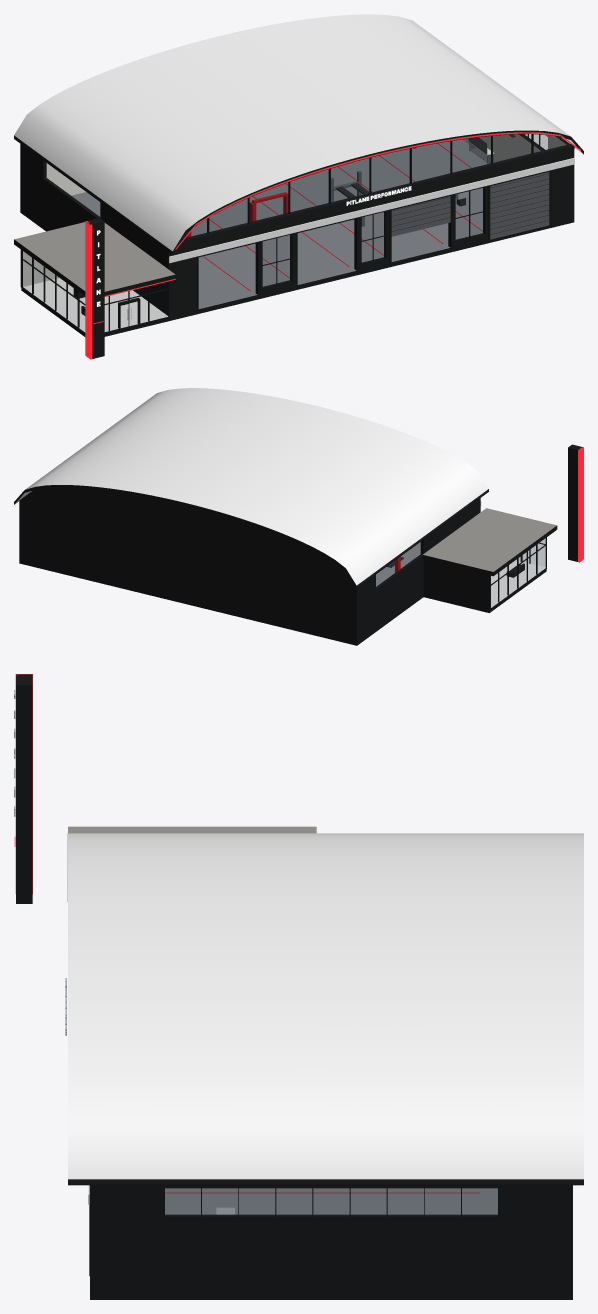
File: pitlane_performance_lod0.glb
3 views of the same model, one above another, from view 1: azimuth 30°, elevation 25°; view 2: azimuth 150°, elevation 25°; view 3: azimuth 270°, elevation 25° (orthographic). The views are drawn at different scales.
Visible parts, largest first — view 1: P14_LOD0_BUILDING_EXTERIOR_Hangar, P14_LOD0_BUILDING_INTERIOR_GroundSlab, P14_LOD0_GLASS_SYSTEM_Lunette, P14_LOD0_FACADE_DETAILS_Details, P14_LOD0_GLASS_SYSTEM_ReceptionGlass, P14_LOD0_BUILDING_INTERIOR_ReceptionSlab, P14_LOD0_SIGNAGE_Brand, P14_LOD0_DISPLAY_OBJECTS_Workshop, P14_LOD0_GLASS_SYSTEM_ReceptionFrame; view 2: P14_LOD0_BUILDING_EXTERIOR_Hangar, P14_LOD0_BUILDING_INTERIOR_GroundSlab, P14_LOD0_SIGNAGE_Brand, P14_LOD0_BUILDING_INTERIOR_ReceptionSlab, P14_LOD0_GLASS_SYSTEM_ReceptionGlass, P14_LOD0_GLASS_SYSTEM_ReceptionFrame; view 3: P14_LOD0_BUILDING_EXTERIOR_Hangar, P14_LOD0_BUILDING_INTERIOR_GroundSlab, P14_LOD0_GLASS_SYSTEM_SideClereGlass, P14_LOD0_SIGNAGE_Brand, P14_LOD0_GLASS_SYSTEM_SideClereFrame.
Part boxes in pixels (x1,y1,x2,y2): P14_LOD0_BUILDING_EXTERIOR_Hangar: (14,14,583,317); P14_LOD0_BUILDING_INTERIOR_GroundSlab: (20,139,574,320); P14_LOD0_GLASS_SYSTEM_Lunette: (185,134,566,237); P14_LOD0_FACADE_DETAILS_Details: (169,132,580,263); P14_LOD0_GLASS_SYSTEM_ReceptionGlass: (23,252,167,331); P14_LOD0_BUILDING_INTERIOR_ReceptionSlab: (21,278,168,336); P14_LOD0_SIGNAGE_Brand: (85,186,411,359); P14_LOD0_DISPLAY_OBJECTS_Workshop: (183,137,494,290); P14_LOD0_GLASS_SYSTEM_ReceptionFrame: (20,249,169,333); P14_LOD0_BUILDING_EXTERIOR_Hangar: (14,388,557,643); P14_LOD0_BUILDING_INTERIOR_GroundSlab: (19,542,423,645); P14_LOD0_SIGNAGE_Brand: (568,444,583,562); P14_LOD0_BUILDING_INTERIOR_ReceptionSlab: (423,560,546,612); P14_LOD0_GLASS_SYSTEM_ReceptionGlass: (491,538,545,606); P14_LOD0_GLASS_SYSTEM_ReceptionFrame: (488,537,546,610); P14_LOD0_BUILDING_EXTERIOR_Hangar: (67,826,583,1294); P14_LOD0_BUILDING_INTERIOR_GroundSlab: (90,1188,572,1299); P14_LOD0_GLASS_SYSTEM_SideClereGlass: (165,1189,497,1215); P14_LOD0_SIGNAGE_Brand: (14,674,66,1035); P14_LOD0_GLASS_SYSTEM_SideClereFrame: (164,1187,498,1217).
Size of the model in its own units: 51.52 by 13.3 by 30.7.
